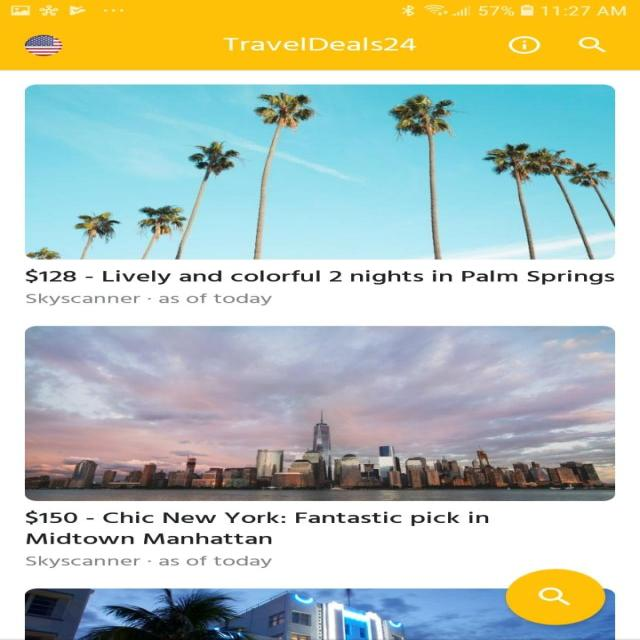Icon: (504, 568, 606, 625), (506, 36, 540, 55), (576, 36, 606, 53)
Image: (24, 84, 614, 260), (24, 326, 615, 501), (24, 587, 614, 640), (24, 34, 63, 56)
Text: (25, 509, 488, 544), (24, 268, 614, 285), (25, 555, 272, 568), (26, 293, 273, 306), (222, 37, 417, 51)
